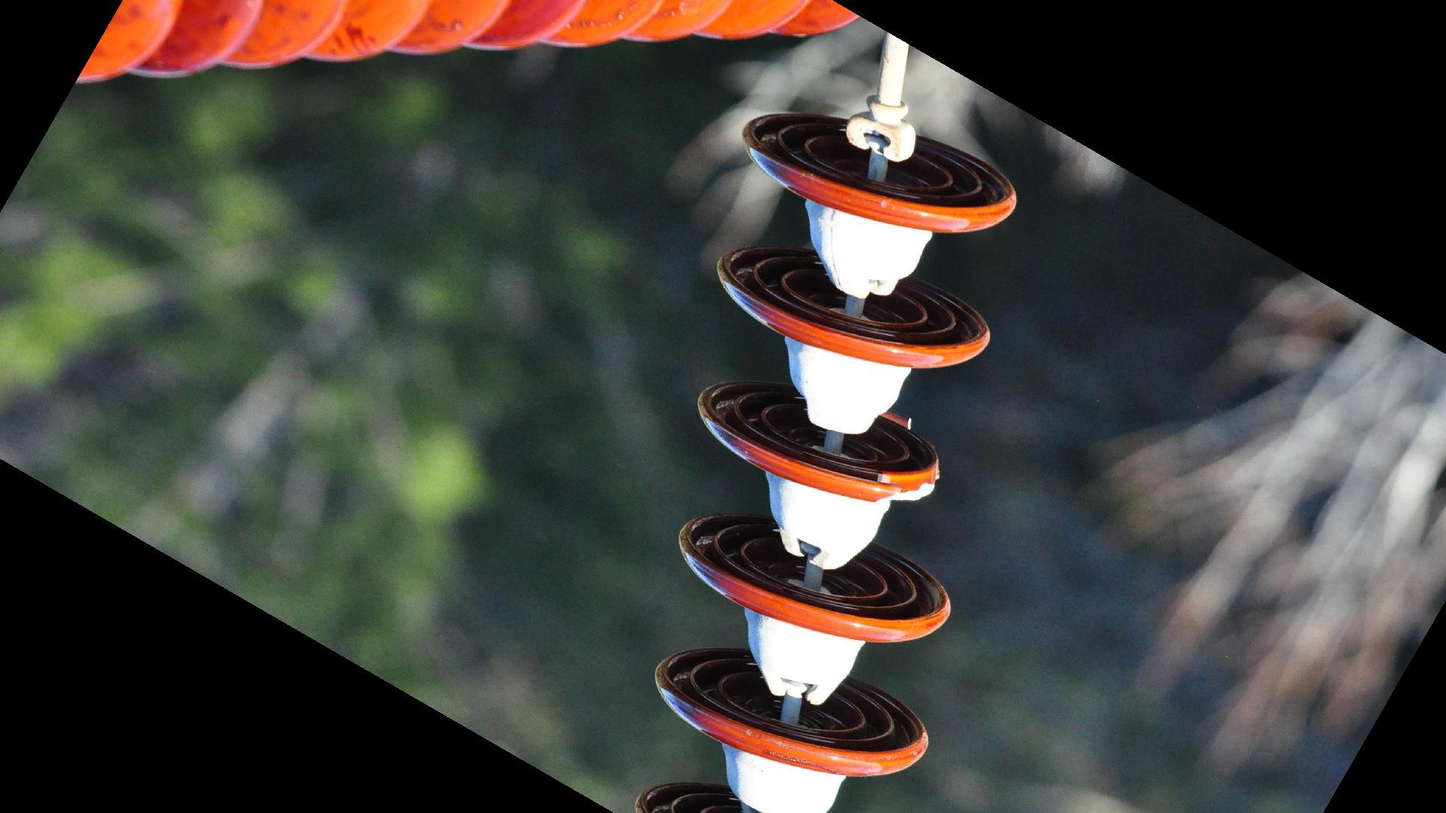insulator: (627, 108, 1027, 813), (63, 1, 868, 96)
insulator_breakage: (863, 406, 953, 507)
